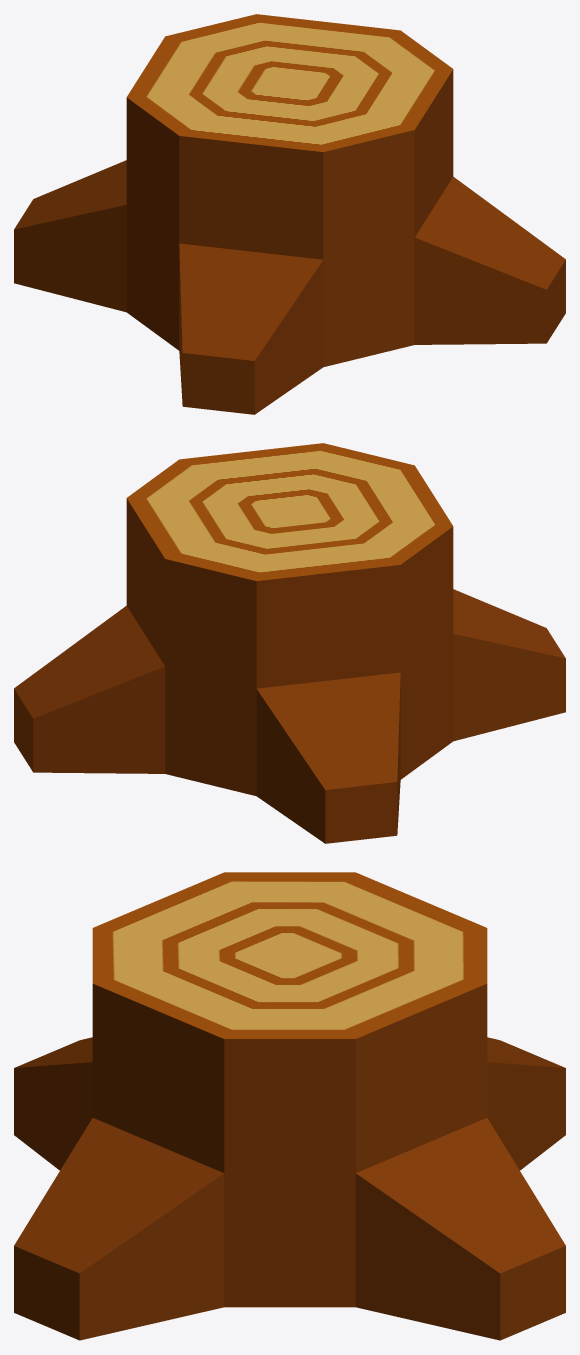
The model's file is Stump_01.fbx.
3 views of the same model, one above another, from view 1: azimuth 30°, elevation 25°; view 2: azimuth 150°, elevation 25°; view 3: azimuth 270°, elevation 25° (orthographic). The views are drawn at different scales.
Visible parts, largest first — view 1: Stump_01; view 2: Stump_01; view 3: Stump_01.
Part boxes in pixels (x1,y1,x2,y2): Stump_01: [14, 14, 565, 414]; Stump_01: [14, 443, 565, 843]; Stump_01: [14, 872, 565, 1340].
Bounding box in the file's own units: 55.96 × 30 × 55.96.
Materials: 1 (1 with a texture image).
